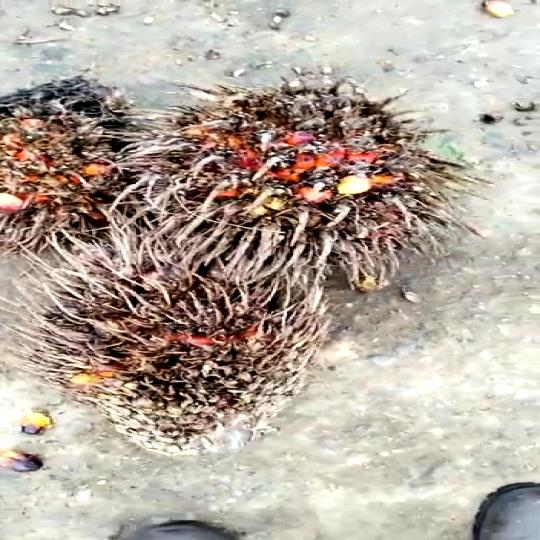terlalu masak: (130, 74, 472, 304), (31, 224, 341, 458)
